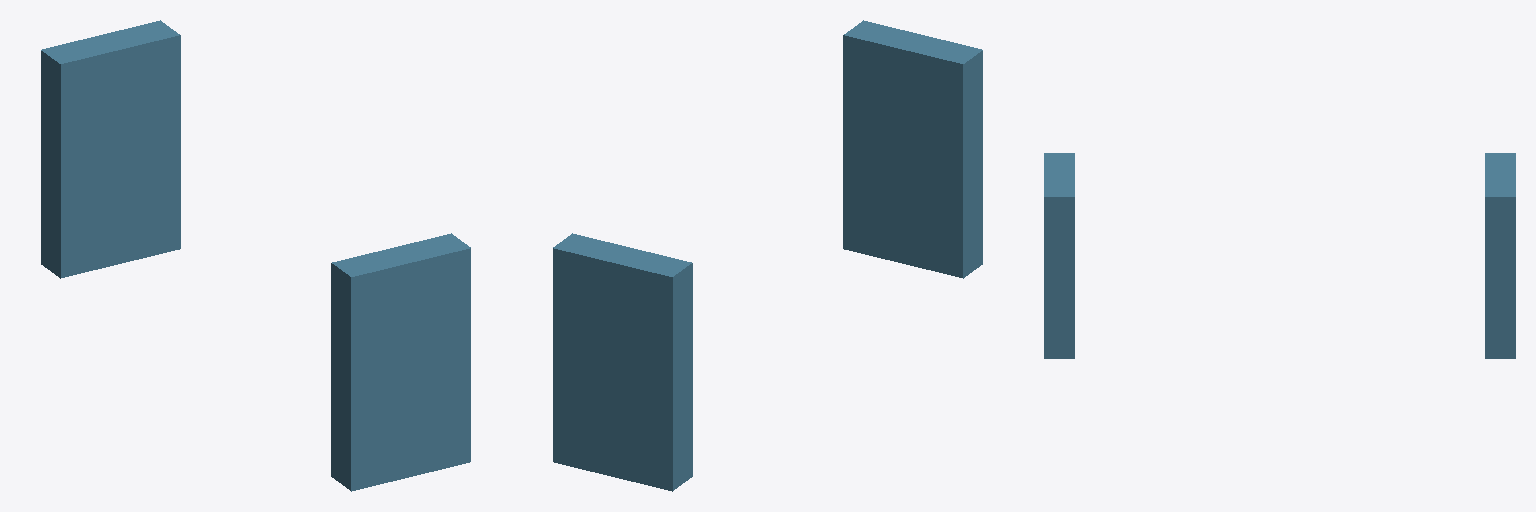
URDF robot description (robotiq_arg2f_85_model):
<?xml version="1.0" ?>
<!-- =================================================================================== -->
<!-- |    This document was autogenerated by xacro from robotiq_arg2f_85_model.xacro   | -->
<!-- |    EDITING THIS FILE BY HAND IS NOT RECOMMENDED                                 | -->
<!-- =================================================================================== -->
<robot name="robotiq_arg2f_85_model">
  <link name="robotiq_arg2f_base_link">
    <inertial>
      <origin rpy="0 0 0" xyz="8.625E-08 -4.6583E-06 0.03145"/>
      <mass value="0.22652"/>
      <inertia ixx="0.00020005" ixy="-4.2442E-10" ixz="-2.9069E-10" iyy="0.00017832" iyz="-3.4402E-08" izz="0.00013478"/>
    </inertial>
    <visual>
      <origin rpy="0 0 0" xyz="0 0 0"/>
      <geometry>
        <mesh filename="robotiq_85/visual/robotiq_arg2f_85_base_link.dae" scale="0.001 0.001 0.001"/>
      </geometry>
      <material name="LightGrey">
        <color rgba="0.7 0.7 0.7 1.0"/>
      </material>
    </visual>
    <collision>
      <origin rpy="0 0 0" xyz="0 0 0"/>
      <geometry>
        <mesh filename="robotiq_85/collision/robotiq_arg2f_base_link.stl"/>
      </geometry>
    </collision>
  </link>
  <joint name="finger_joint" type="revolute">
    <origin rpy="0 0 3.14159265359" xyz="0 -0.0306011 0.054904"/>
    <parent link="robotiq_arg2f_base_link"/>
    <child link="left_outer_knuckle"/>
    <axis xyz="1 0 0"/>
    <limit effort="1000" lower="0" upper="0.8" velocity="2.0"/>
  </joint>
  <link name="left_outer_knuckle">
    <inertial>
        <origin xyz="-0.000200000000003065 0.0199435877845359 0.0292245259211331" rpy="0 0 0" />
        <mass value="0.00853198276973456" />
        <inertia ixx="2.89328108496468E-06" ixy="-1.57935047237397E-19" ixz="-1.93980378593255E-19" iyy="1.86719750325683E-06" iyz="-1.21858577871576E-06" izz="1.21905238907251E-06" />
        </inertial>
    <visual>
      <origin rpy="0 0 0" xyz="0 0 0"/>
      <geometry>
        <mesh filename="robotiq_85/visual/robotiq_arg2f_85_outer_knuckle.dae" scale="0.001 0.001 0.001"/>
      </geometry>
      <material name="">
        <color rgba="1 1 0 1"/>
      </material>
    </visual>
    <collision>
      <origin rpy="0 0 0" xyz="0 0 0"/>
      <geometry>
        <mesh filename="robotiq_85/collision/robotiq_arg2f_85_outer_knuckle.dae" scale="0.001 0.001 0.001"/>
      </geometry>
    </collision>
  </link>
  <joint name="left_outer_finger_joint" type="fixed">
    <origin rpy="0 0 0" xyz="0 0.0315 -0.0041"/>
    <parent link="left_outer_knuckle"/>
    <child link="left_outer_finger"/>
    <axis xyz="1 0 0"/>
  </joint>
  <link name="left_outer_finger">
    <inertial>
        <origin xyz="0.00030115855001899 0.0373907951953854 -0.0208027427000385" rpy="0 0 0" />
        <mass value="0.022614240507152" />
        <inertia ixx="1.52518312458174E-05" ixy="9.76583423954399E-10" ixz="-5.43838577022588E-10" iyy="6.17694243867776E-06" iyz="6.78636130740228E-06" izz="1.16494917907219E-05" />
        </inertial>
    <visual>
      <origin rpy="0 0 0" xyz="0 0 0"/>
      <geometry>
        <mesh filename="robotiq_85/visual/robotiq_arg2f_85_outer_finger.dae" scale="0.001 0.001 0.001"/>
      </geometry>
      <material name="LightGrey">
        <color rgba="0 1 1 1.0"/>
      </material>
    </visual>
    <collision>
      <origin rpy="0 0 0" xyz="0 0 0"/>
      <geometry>
        <mesh filename="robotiq_85/collision/robotiq_arg2f_85_outer_finger.dae" scale="0.001 0.001 0.001"/>
      </geometry>
    </collision>
  </link>
  <joint name="left_inner_finger_joint" type="revolute">
    <origin rpy="0 0 0" xyz="0 0.0061 0.0471"/>
    <parent link="left_outer_finger"/>
    <child link="left_inner_finger"/>
    <axis xyz="1 0 0"/>
    <limit effort="1000" lower="-0.8757" upper="0" velocity="2.0"/>
    <mimic joint="finger_joint" multiplier="-1" offset="0"/>
  </joint>
  <link name="left_inner_finger">
    <inertial>
        <origin xyz="0.000299999999999317 0.0160078233491243 -0.0136945669206257" rpy="0 0 0" />
        <mass value="0.0104003125914103" />
        <inertia ixx="2.71909453810972E-06" ixy="1.35402465472579E-21" ixz="-7.1817349065269E-22" iyy="7.69100314106116E-07" iyz="6.74715432769696E-07" izz="2.30315190420171E-06" />
        </inertial>
    <visual>
      <origin rpy="0 0 0" xyz="0 0 0"/>
      <geometry>
        <mesh filename="robotiq_85/visual/robotiq_arg2f_85_inner_finger.dae" scale="0.001 0.001 0.001"/>
      </geometry>
      <material name="LightGrey">
        <color rgba="1 0 1 1.0"/>
      </material>
    </visual>
    <collision>
      <origin rpy="0 0 0" xyz="0 0 0"/>
      <geometry>
        <mesh filename="robotiq_85/collision/robotiq_arg2f_85_inner_finger.dae" scale="0.001 0.001 0.001"/>
      </geometry>
    </collision>
  </link>
  <joint name="left_inner_finger_pad_joint" type="fixed">
    <origin rpy="0 0 0" xyz="0 -0.0220203446692936 0.03242"/>
    <parent link="left_inner_finger"/>
    <child link="left_inner_finger_pad"/>
    <axis xyz="0 0 1"/>
  </joint>
  <link name="left_inner_finger_pad">
    <inertial>
      <mass value="1."/>
      <inertia ixx="1E-10" ixy="1E-10" ixz="1E-10" iyy="1E-10" iyz="1E-10" izz="1E-10"/>
    </inertial>
    <visual>
      <origin rpy="0 0 0" xyz="0 0 0"/>
      <geometry>
        <box size="0.022 0.00635 0.0375"/>
      </geometry>
      <material name="UR-Blue">
        <color rgba="0.376 0.576 0.674 1.0"/>
      </material>
    </visual>
    <collision>
      <origin rpy="0 0 0" xyz="0 0 0"/>
      <geometry>
        <box size="0.022 0.00635 0.0375"/>
      </geometry>
      <material name="">
        <color rgba="0.9 0.0 0.0 1"/>
      </material>
    </collision>
  </link>
  <joint name="left_inner_knuckle_joint" type="revolute">
    <!-- <origin xyz="0 ${reflect * -0.0127} 0.06142" rpy="${pi / 2 + .725} 0 ${(reflect - 1) * pi / 2}" /> -->
    <origin rpy="0 0 3.14159265359" xyz="0 -0.0127 0.06142"/>
    <parent link="robotiq_arg2f_base_link"/>
    <child link="left_inner_knuckle"/>
    <axis xyz="1 0 0"/>
    <limit effort="1000" lower="0" upper="0.8757" velocity="2.0"/>
    <mimic joint="finger_joint" multiplier="1" offset="0"/>
  </joint>
  <link name="left_inner_knuckle">
    <inertial>
        <origin xyz="0.000123011831763771 0.0507850843201817 0.00103968640075166" rpy="0 0 0" />
       <mass value="0.0271177346495152" />
        <inertia ixx="2.61910379223783E-05" ixy="-2.43616858946494E-07" ixz="-6.37789906117123E-09" iyy="2.8270243746167E-06" iyz="-5.37200748039765E-07" izz="2.83695868220296E-05" />
        </inertial>
    <visual>
      <origin rpy="0 0 0" xyz="0 0 0"/>
      <geometry>
        <mesh filename="robotiq_85/visual/robotiq_arg2f_85_inner_knuckle.dae" scale="0.001 0.001 0.001"/>
      </geometry>
      <material name="LightGrey">
        <color rgba="0 0 1 1.0"/>
      </material>
    </visual>
    <collision>
      <origin rpy="0 0 0" xyz="0 0 0"/>
      <geometry>
        <mesh filename="robotiq_85/collision/robotiq_arg2f_85_inner_knuckle.dae" scale="0.001 0.001 0.001"/>
      </geometry>
    </collision>
  </link>
  <joint name="right_outer_knuckle_joint" type="revolute">
    <origin rpy="0 0 0" xyz="0 0.0306011 0.054904"/>
    <parent link="robotiq_arg2f_base_link"/>
    <child link="right_outer_knuckle"/>
    <axis xyz="1 0 0"/>
    <limit effort="1000" lower="0" upper="0.81" velocity="2.0"/>
    <mimic joint="finger_joint" multiplier="1" offset="0"/>
  </joint>
  <link name="right_outer_knuckle">
    <inertial>
        <origin xyz="-0.000200000000003065 0.0199435877845359 0.0292245259211331" rpy="0 0 0" />
        <mass value="0.00853198276973456" />
        <inertia ixx="2.89328108496468E-06" ixy="-1.57935047237397E-19" ixz="-1.93980378593255E-19" iyy="1.86719750325683E-06" iyz="-1.21858577871576E-06" izz="1.21905238907251E-06" />
        </inertial>
    <visual>
      <origin rpy="0 0 0" xyz="0 0 0"/>
      <geometry>
        <mesh filename="robotiq_85/visual/robotiq_arg2f_85_outer_knuckle.dae" scale="0.001 0.001 0.001"/>
      </geometry>
      <material name="">
        <color rgba="0.792156862745098 0.819607843137255 0.933333333333333 1"/>
      </material>
    </visual>
    <collision>
      <origin rpy="0 0 0" xyz="0 0 0"/>
      <geometry>
        <mesh filename="robotiq_85/collision/robotiq_arg2f_85_outer_knuckle.dae" scale="0.001 0.001 0.001"/>
      </geometry>
    </collision>
  </link>
  <joint name="right_outer_finger_joint" type="fixed">
    <origin rpy="0 0 0" xyz="0 0.0315 -0.0041"/>
    <parent link="right_outer_knuckle"/>
    <child link="right_outer_finger"/>
    <axis xyz="1 0 0"/>
  </joint>
  <link name="right_outer_finger">
    <inertial>
        <origin xyz="0.00030115855001899 0.0373907951953854 -0.0208027427000385" rpy="0 0 0" />
        <mass value="0.022614240507152" />
        <inertia ixx="1.52518312458174E-05" ixy="9.76583423954399E-10" ixz="-5.43838577022588E-10" iyy="6.17694243867776E-06" iyz="6.78636130740228E-06" izz="1.16494917907219E-05" />
        </inertial>
    <visual>
      <origin rpy="0 0 0" xyz="0 0 0"/>
      <geometry>
        <mesh filename="robotiq_85/visual/robotiq_arg2f_85_outer_finger.dae" scale="0.001 0.001 0.001"/>
      </geometry>
      <material name="LightGrey">
        <color rgba="0.7 0.7 0.7 1.0"/>
      </material>
    </visual>
    <collision>
      <origin rpy="0 0 0" xyz="0 0 0"/>
      <geometry>
        <mesh filename="robotiq_85/collision/robotiq_arg2f_85_outer_finger.dae" scale="0.001 0.001 0.001"/>
      </geometry>
    </collision>
  </link>
  <joint name="right_inner_finger_joint" type="revolute">
    <origin rpy="0 0 0" xyz="0 0.0061 0.0471"/>
    <parent link="right_outer_finger"/>
    <child link="right_inner_finger"/>
    <axis xyz="1 0 0"/>
    <limit effort="1000" lower="-0.8757" upper="0" velocity="2.0"/>
    <mimic joint="finger_joint" multiplier="-1" offset="0"/>
  </joint>
  <link name="right_inner_finger">
    <inertial>
        <origin xyz="0.000299999999999317 0.0160078233491243 -0.0136945669206257" rpy="0 0 0" />
        <mass value="0.0104003125914103" />
        <inertia ixx="2.71909453810972E-06" ixy="1.35402465472579E-21" ixz="-7.1817349065269E-22" iyy="7.69100314106116E-07" iyz="6.74715432769696E-07" izz="2.30315190420171E-06" />
        </inertial>
    <visual>
      <origin rpy="0 0 0" xyz="0 0 0"/>
      <geometry>
        <mesh filename="robotiq_85/visual/robotiq_arg2f_85_inner_finger.dae" scale="0.001 0.001 0.001"/>
      </geometry>
      <material name="">
        <color rgba="0.1 0.1 0.1 1"/>
      </material>
    </visual>
    <collision>
      <origin rpy="0 0 0" xyz="0 0 0"/>
      <geometry>
        <mesh filename="robotiq_85/collision/robotiq_arg2f_85_inner_finger.dae" scale="0.001 0.001 0.001"/>
      </geometry>
    </collision>
  </link>
  <joint name="right_inner_finger_pad_joint" type="fixed">
    <origin rpy="0 0 0" xyz="0 -0.0220203446692936 0.03242"/>
    <parent link="right_inner_finger"/>
    <child link="right_inner_finger_pad"/>
    <axis xyz="0 0 1"/>
  </joint>
  <link name="right_inner_finger_pad">
    <inertial>
      <mass value="1"/>
      <inertia ixx="1E-10" ixy="1E-10" ixz="1E-10" iyy="1E-10" iyz="1E-10" izz="1E-10"/>
    </inertial>
    <visual>
      <origin rpy="0 0 0" xyz="0 0 0"/>
      <geometry>
        <box size="0.022 0.00635 0.0375"/>
      </geometry>
      <material name="UR-Blue">
        <color rgba="0.376 0.576 0.674 1.0"/>
      </material>
    </visual>
    <collision>
      <origin rpy="0 0 0" xyz="0 0 0"/>
      <geometry>
        <box size="0.022 0.00635 0.0375"/>
      </geometry>
      <material name="LightGrey">
        <color rgba="0.7 0.7 0.7 1.0"/>
      </material>
    </collision>
  </link>
  <joint name="right_inner_knuckle_joint" type="revolute">
    <!-- <origin xyz="0 ${reflect * -0.0127} 0.06142" rpy="${pi / 2 + .725} 0 ${(reflect - 1) * pi / 2}" /> -->
    <origin rpy="0 0 0.0" xyz="0 0.0127 0.06142"/>
    <parent link="robotiq_arg2f_base_link"/>
    <child link="right_inner_knuckle"/>
    <axis xyz="1 0 0"/>
    <limit effort="1000" lower="0" upper="0.8757" velocity="2.0"/>
    <mimic joint="finger_joint" multiplier="1" offset="0"/>
  </joint>
  <link name="right_inner_knuckle">
    <inertial>
        <origin xyz="0.000123011831763771 0.0507850843201817 0.00103968640075166" rpy="0 0 0" />
       <mass value="0.0271177346495152" />
        <inertia ixx="2.61910379223783E-05" ixy="-2.43616858946494E-07" ixz="-6.37789906117123E-09" iyy="2.8270243746167E-06" iyz="-5.37200748039765E-07" izz="2.83695868220296E-05" />
        </inertial>
    <visual>
      <origin rpy="0 0 0" xyz="0 0 0"/>
      <geometry>
        <mesh filename="robotiq_85/visual/robotiq_arg2f_85_inner_knuckle.dae" scale="0.001 0.001 0.001"/>
      </geometry>
      <material name="LightGrey">
        <color rgba="0.7 0.7 0.7 1.0"/>
      </material>
    </visual>
    <collision>
      <origin rpy="0 0 0" xyz="0 0 0"/>
      <geometry>
        <mesh filename="robotiq_85/collision/robotiq_arg2f_85_inner_knuckle.dae" scale="0.001 0.001 0.001"/>
      </geometry>
    </collision>
  </link>
</robot>

--- Render facts (derived) ---
3 views of the same robot in one strip: view 1: azimuth 30°, elevation 25°; view 2: azimuth 150°, elevation 25°; view 3: azimuth 270°, elevation 25° (orthographic).
Model robotiq_arg2f_85_model with 11 links and 10 joints (6 revolute, 4 fixed), rooted at robotiq_arg2f_base_link, posed every joint at zero.
Links seen in each view (by area): view 1: left_inner_finger_pad, right_inner_finger_pad; view 2: left_inner_finger_pad, right_inner_finger_pad; view 3: left_inner_finger_pad, right_inner_finger_pad.
Boxes of the visible links, x1=… form: left_inner_finger_pad: x1=331, y1=233, x2=470, y2=491; right_inner_finger_pad: x1=41, y1=20, x2=180, y2=278; left_inner_finger_pad: x1=843, y1=20, x2=982, y2=278; right_inner_finger_pad: x1=553, y1=233, x2=692, y2=491; left_inner_finger_pad: x1=1044, y1=153, x2=1074, y2=358; right_inner_finger_pad: x1=1485, y1=153, x2=1515, y2=358.
Size in the robot's own frame: 0.022 by 0.0987 by 0.0375 metres.
0 mesh visuals loaded from 5 distinct referenced files (none loaded); not drawn: 9 (reference not matched to a file when rendering).